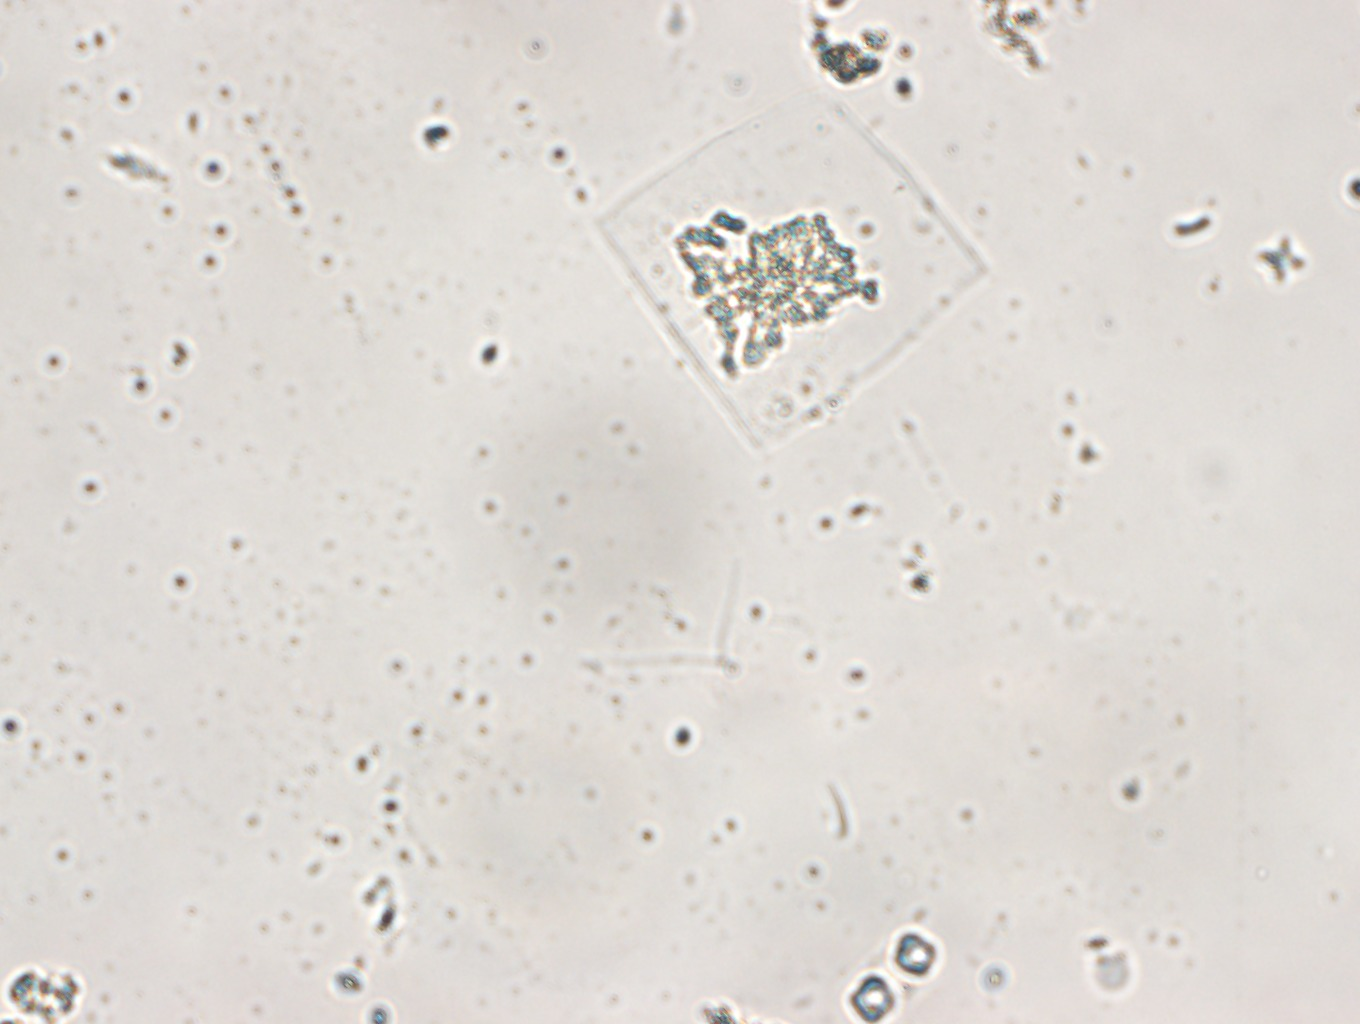helicotheca: (590, 79, 994, 458)
